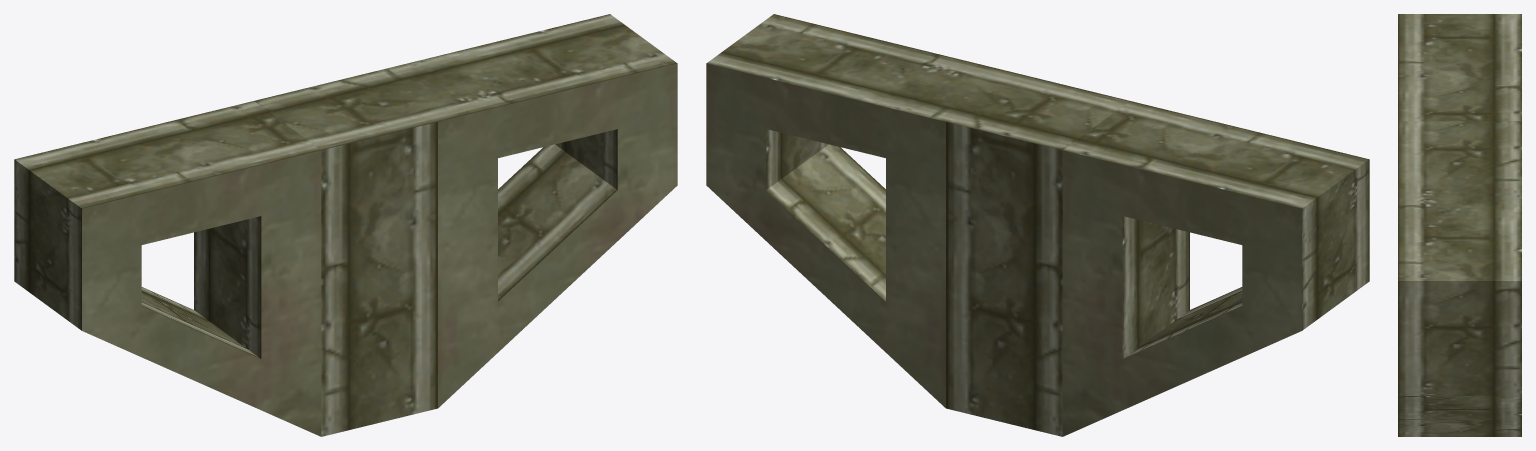
The model's file is colum-connection-01.fbx.
3 views of the same model, side by side, from view 1: azimuth 30°, elevation 25°; view 2: azimuth 150°, elevation 25°; view 3: azimuth 270°, elevation 25° (orthographic). The views are drawn at different scales.
Parts seen in each view (by area): view 1: Cube.027; view 2: Cube.027; view 3: Cube.027.
Part boxes in pixels (x1,y1,x2,y2): Cube.027: (14, 14, 677, 436); Cube.027: (706, 14, 1369, 436); Cube.027: (1398, 14, 1521, 436).
Bounding box in the file's own units: 2.04 × 0.9384 × 0.4.
